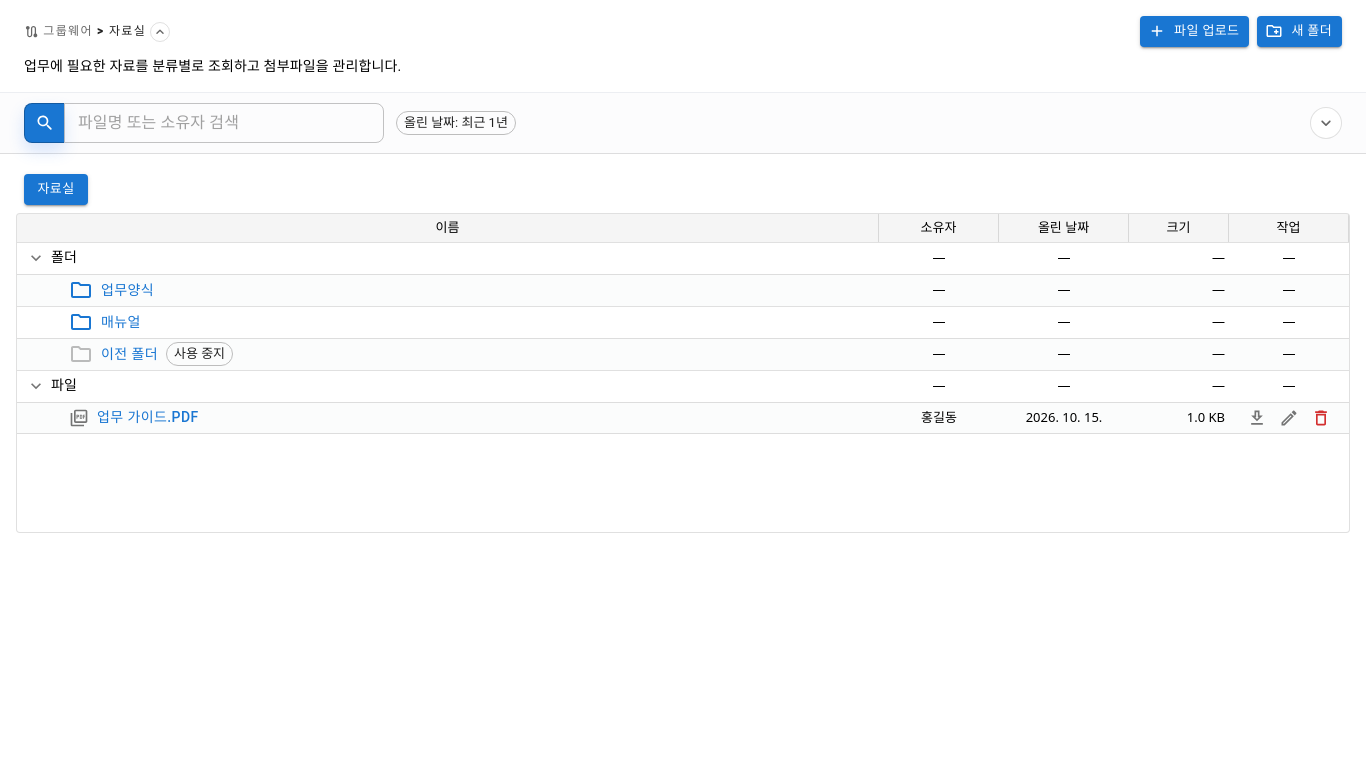
Archive dashboard page › opens common-code management for folder creation only when permitted
Check: the button "업무 가이드.pdf" is shown, box [97, 405, 199, 430]
Click the button "새 폴더": (1300, 31) [1257, 16, 1342, 47]
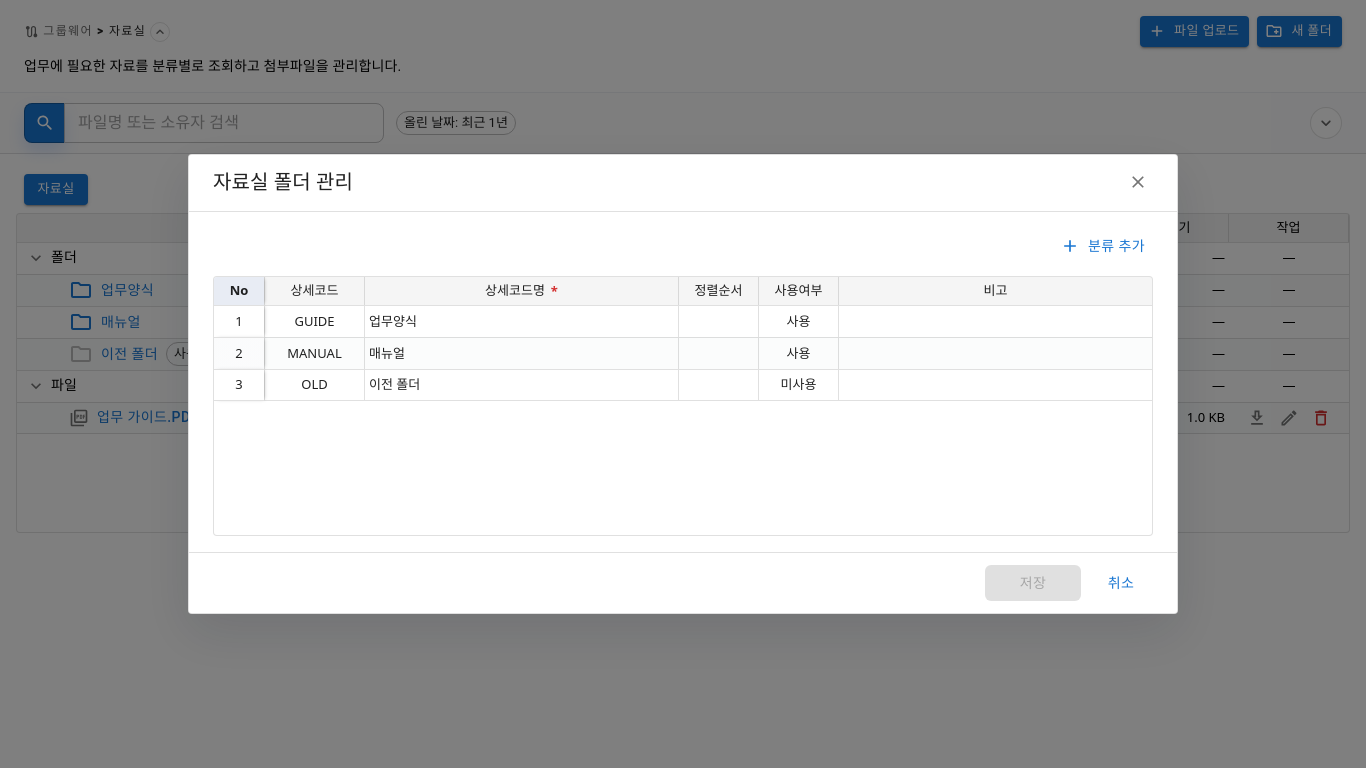
Check: the table named "자료실 폴더 목록" is shown, box [213, 276, 1153, 536]
